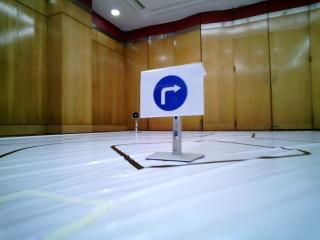right: (144, 72, 195, 109)
